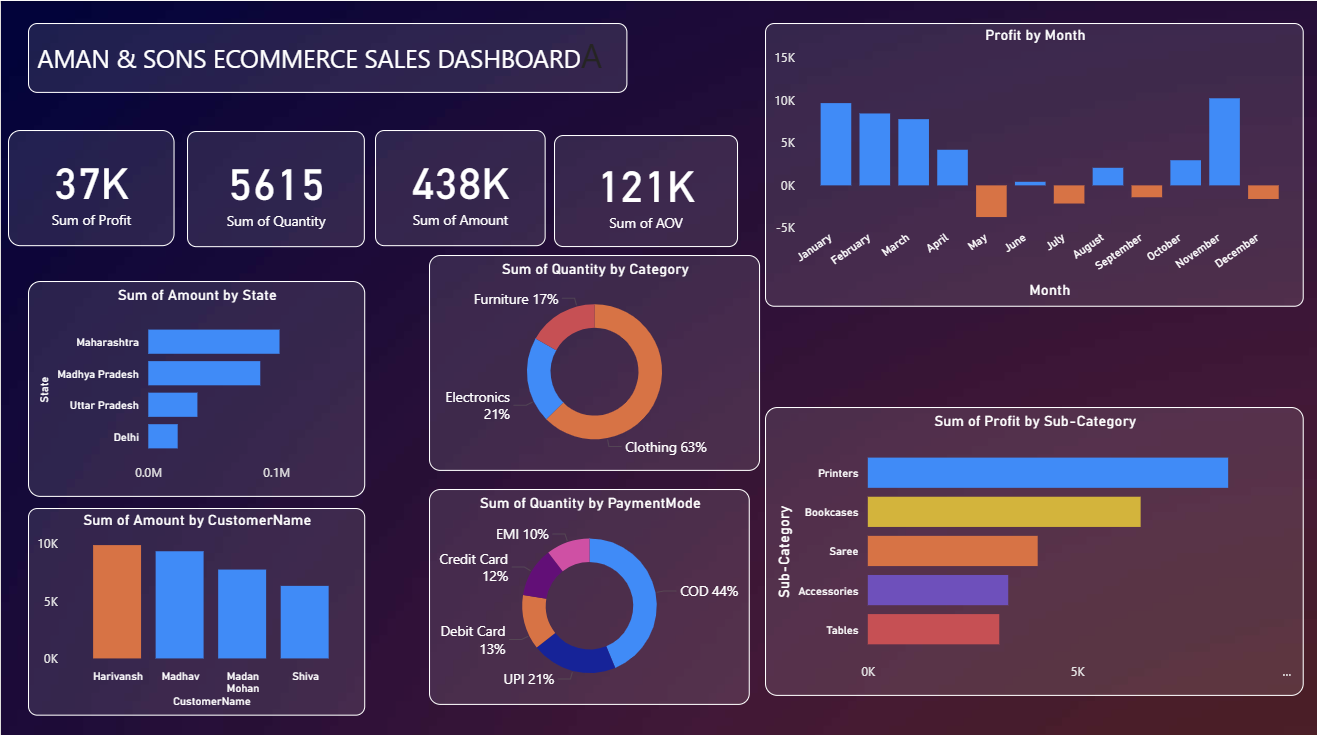

This screenshot's page, from the dashboard's own definition file:
{"tool":"powerbi","page":{"name":"Page 1","canvas":[1280,720],"ordinal":0},"visuals":[{"type":"textbox","box":[26.3,21.4,582.6,68.1],"z":0},{"type":"columnChart","title":" Profit by Month","fields":{"Category":["Orders.Order Date.Variation.Date Hierarchy.Month"],"Y":["Details.Profit"]},"box":[743.1,21.4,524.3,276.2],"z":1000},{"type":"donutChart","fields":{"Category":["Details.Category"],"Y":["Details.Quantity"]},"box":[416.3,247.1,321.9,210.1],"z":2000},{"type":"donutChart","fields":{"Category":["Details.PaymentMode","Details.Category"],"Y":["Details.Quantity"]},"box":[416.3,474.7,312.2,210.1],"z":3000},{"type":"barChart","fields":{"Category":["Details.Sub-Category"],"Y":["Details.Profit"]},"box":[743.1,394.9,524.3,281.1],"z":4000},{"type":"card","fields":{"Values":["Details.Quantity"]},"box":[180.9,126.4,173.1,112.8],"z":5000},{"type":"card","fields":{"Values":["Details.Profit"]},"box":[6.8,125.5,162.4,112.8],"z":6000},{"type":"card","fields":{"Values":["Details.AOV"]},"box":[537.9,130.3,179,108.9],"z":7000},{"type":"barChart","fields":{"Category":["Orders.State"],"Y":["Details.Amount"]},"box":[26.3,272.3,327.8,210.1],"z":8000},{"type":"columnChart","fields":{"Category":["Orders.CustomerName"],"Y":["Details.Amount"]},"box":[26.3,493.1,327.8,202.3],"z":9000},{"type":"card","fields":{"Values":["Details.Amount"]},"box":[363.8,125.5,166.3,112.8],"z":10000}]}

Visuals, with their boxes in screenshot pixels (x1, y1, x2, y2), scaled from the page's 1280x720 canvas onto the 1317x735 screenshot:
textbox: 27,22,627,91
" Profit by Month" columnChart: 765,22,1304,304
donutChart - Details.Category x Details.Quantity: 428,252,760,467
donutChart - Details.PaymentMode x Details.Category: 428,485,750,699
barChart - Details.Sub-Category x Details.Profit: 765,403,1304,690
card - Details.Quantity: 186,129,364,244
card - Details.Profit: 7,128,174,243
card - Details.AOV: 553,133,738,244
barChart - Orders.State x Details.Amount: 27,278,364,492
columnChart - Orders.CustomerName x Details.Amount: 27,503,364,710
card - Details.Amount: 374,128,545,243
